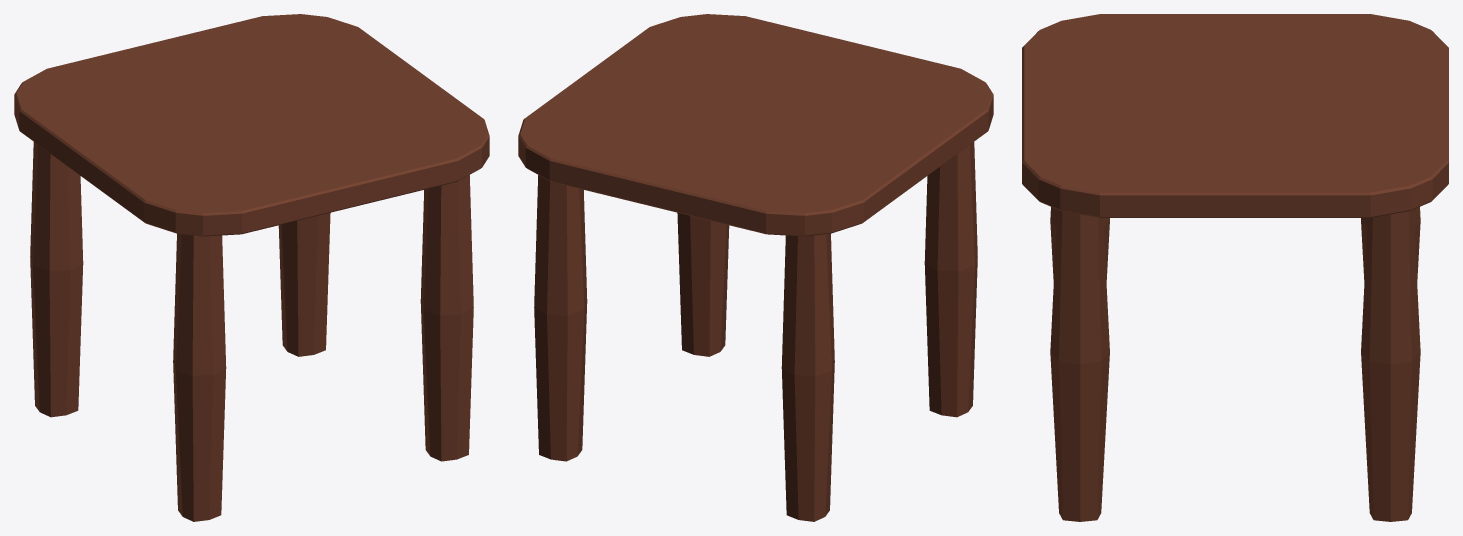
Rendered from WoodenTableA.fbx.
3 views of the same model, side by side, from view 1: azimuth 30°, elevation 25°; view 2: azimuth 150°, elevation 25°; view 3: azimuth 270°, elevation 25° (orthographic). The views are drawn at different scales.
Visible parts, largest first — view 1: Cube.001; view 2: Cube.001; view 3: Cube.001.
Boxes of the visible parts, x1=… form: Cube.001: x1=14, y1=14, x2=489, y2=521; Cube.001: x1=518, y1=14, x2=993, y2=521; Cube.001: x1=1022, y1=14, x2=1448, y2=521.
Size of the model in its own units: 208 by 185 by 208.
